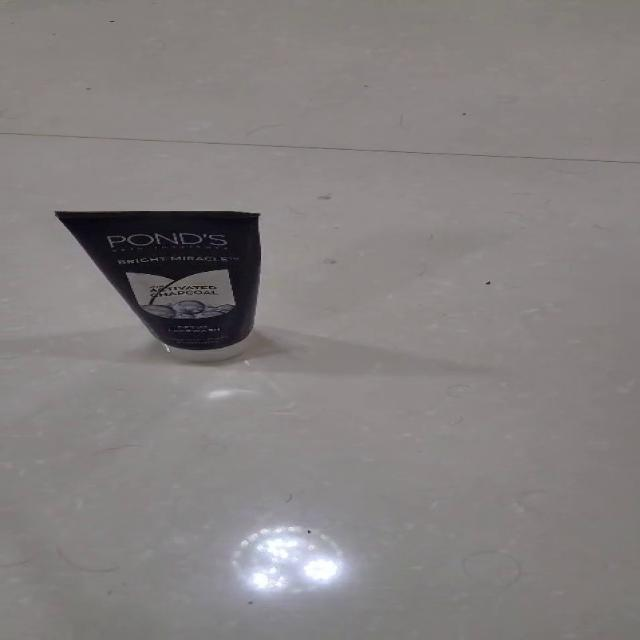plastic: (54, 209, 262, 362)
